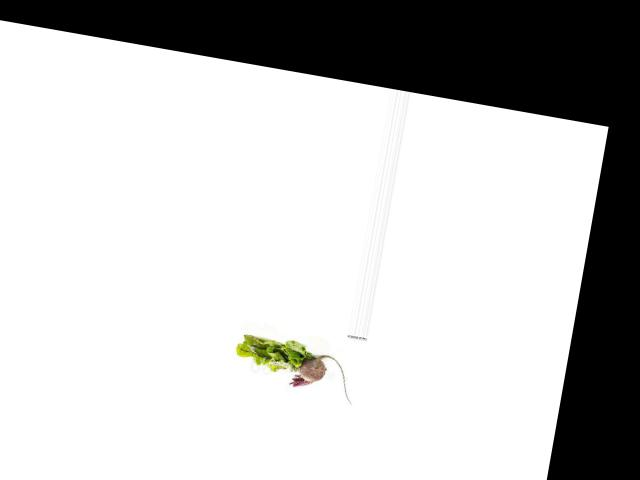beet: (287, 349, 360, 404)
